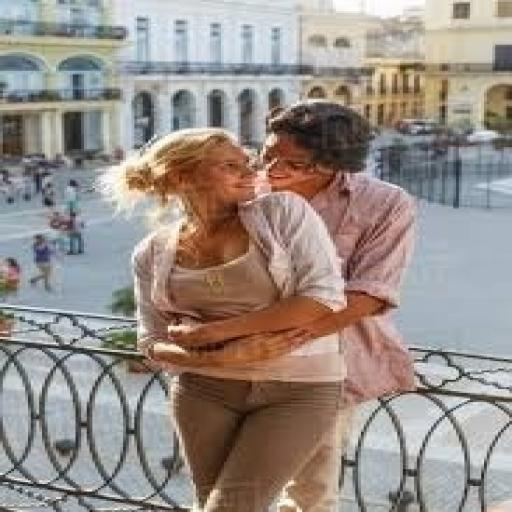hugging: (101, 99, 422, 510)
